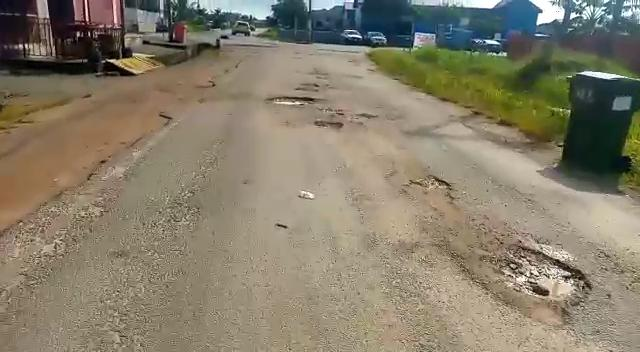pothole: (485, 238, 599, 316), (398, 174, 456, 205), (263, 95, 317, 107), (312, 118, 348, 131)
